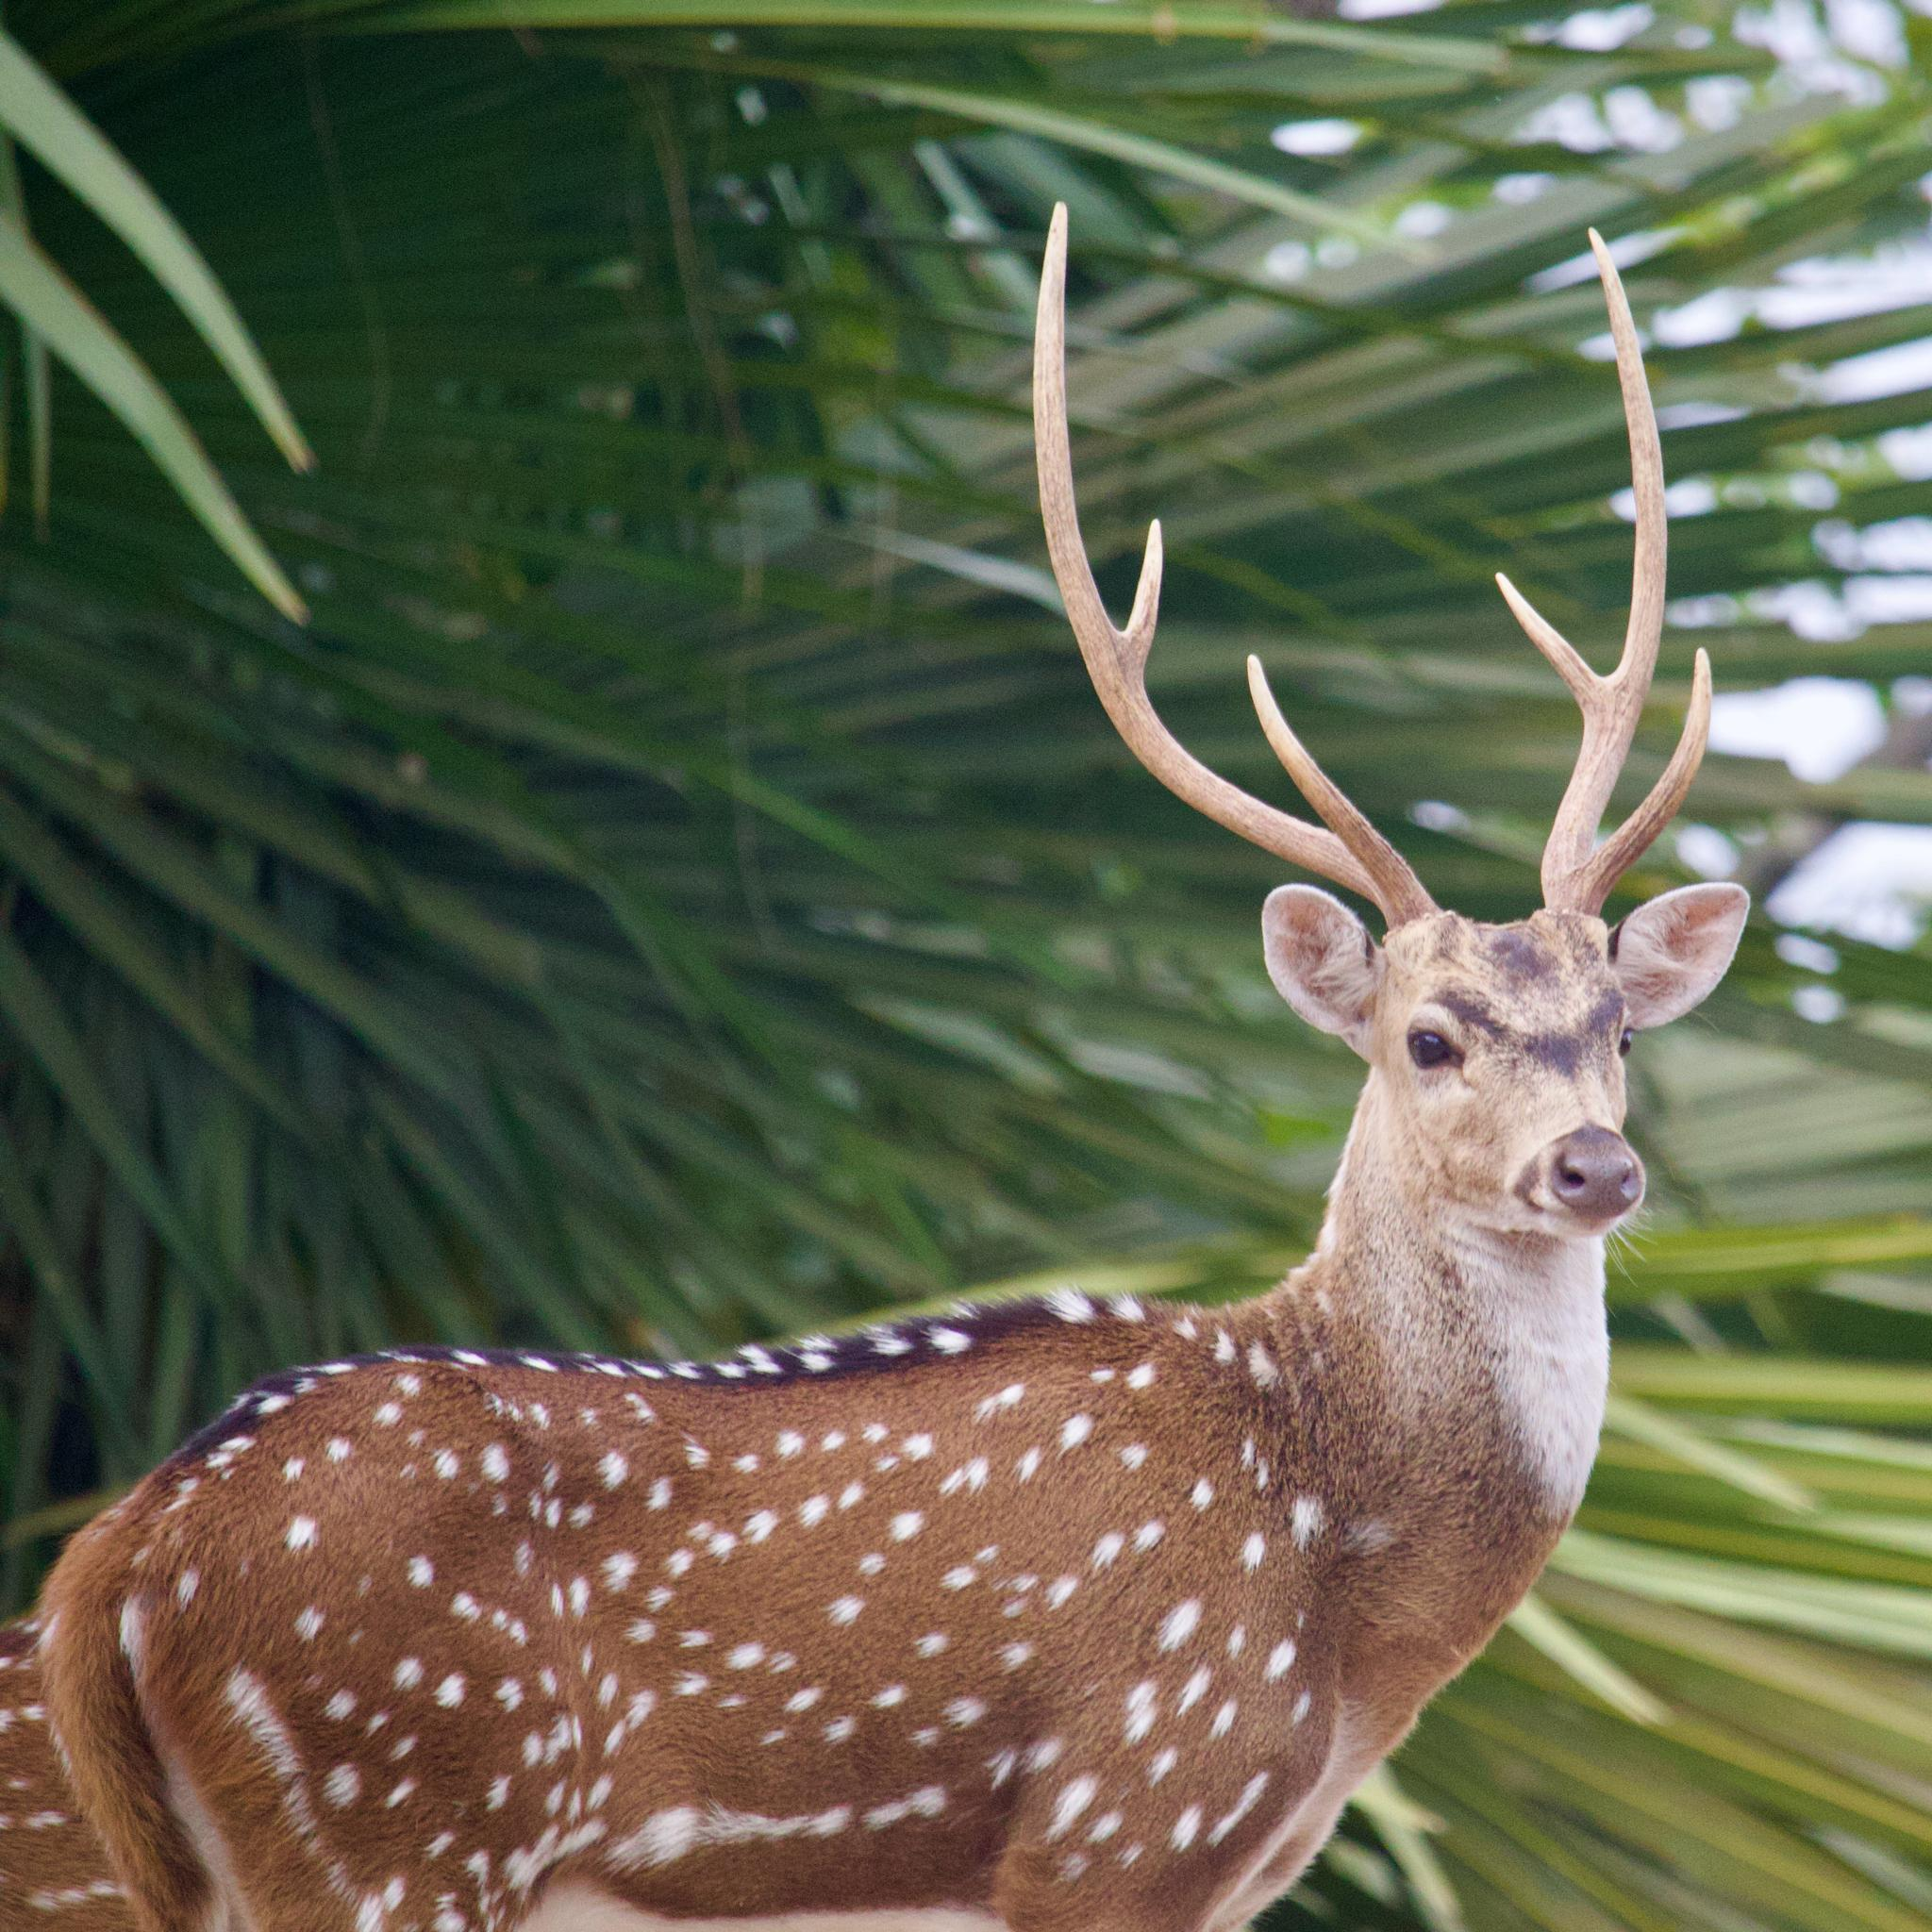Deer: (7, 218, 1746, 1930)
